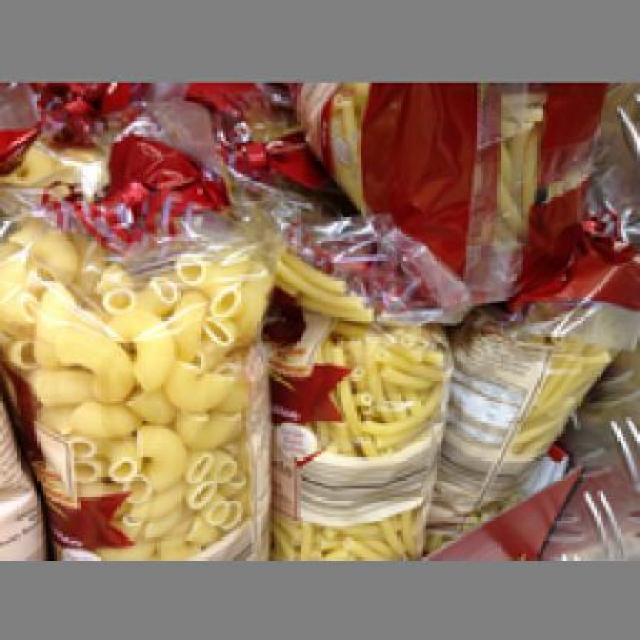Pasta: (0, 157, 266, 552), (260, 212, 454, 554)
